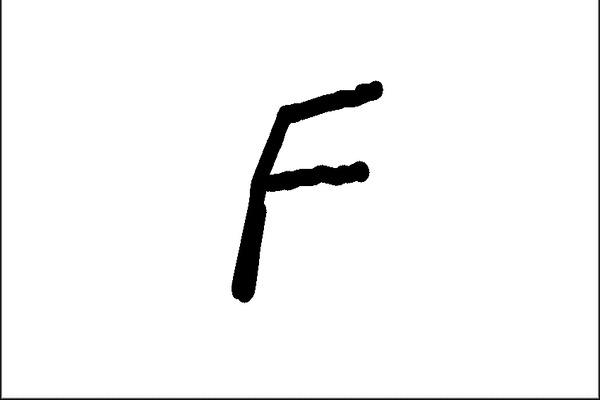F: (226, 77, 388, 306)
